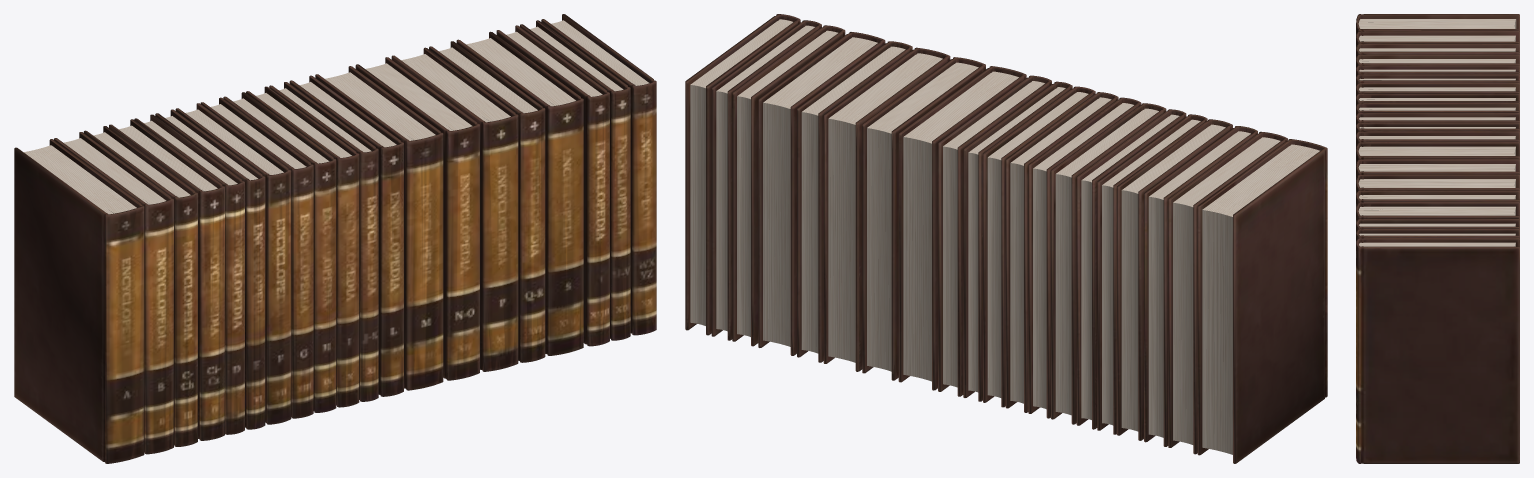
File: book_encyclopedia_set_01.glb
The picture shows the model from 3 angles, left to right: view 1: azimuth 30°, elevation 25°; view 2: azimuth 150°, elevation 25°; view 3: azimuth 270°, elevation 25°; orthographic projection. The views are drawn at different scales.
Parts seen in each view (by area): view 1: book_encyclopedia_set_01_book01; view 2: book_encyclopedia_set_01_book01; view 3: book_encyclopedia_set_01_book01.
Boxes of the visible parts, left/top/right/bottom form: book_encyclopedia_set_01_book01: left=14, top=14, right=656, bottom=463; book_encyclopedia_set_01_book01: left=685, top=14, right=1327, bottom=463; book_encyclopedia_set_01_book01: left=1356, top=14, right=1519, bottom=463.
Bounding box in the file's own units: 0.5513 × 0.2374 × 0.1631.
Materials: 2 (2 with a texture image).
